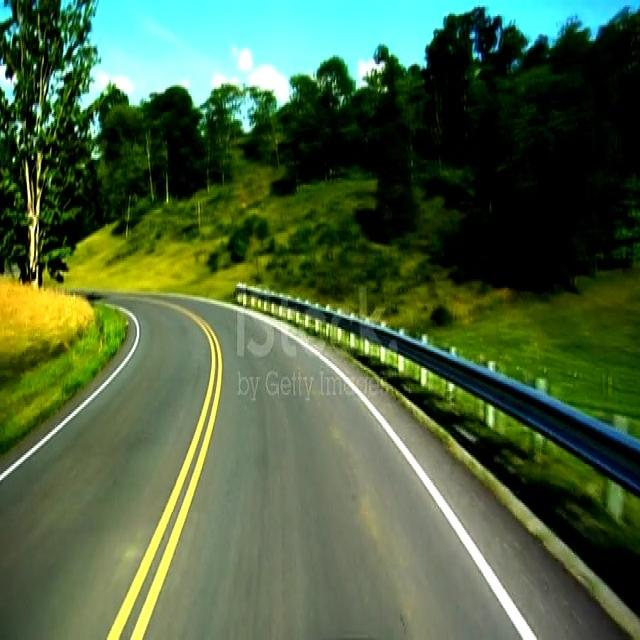lane: (289, 334, 536, 639), (107, 300, 222, 638), (1, 311, 139, 480)
road: (2, 297, 617, 634)
